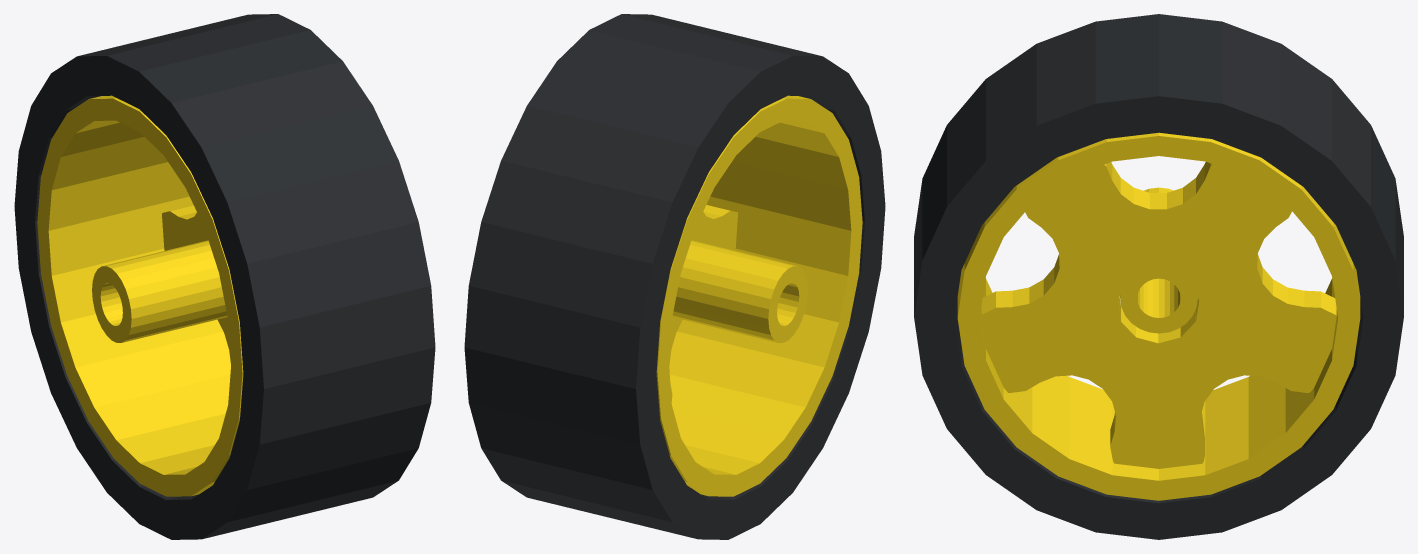
The model's file is tinker.obj.
3 renders of one model, left to right at view 1: azimuth 30°, elevation 25°; view 2: azimuth 150°, elevation 25°; view 3: azimuth 270°, elevation 25°, orthographic.
Visible parts, largest first — view 1: group_0_2829873, group_0_16768282; view 2: group_0_2829873, group_0_16768282; view 3: group_0_16768282, group_0_2829873.
Part boxes in pixels (x1,y1,x2,y2): group_0_2829873: [14, 14, 435, 539]; group_0_16768282: [37, 95, 243, 496]; group_0_2829873: [464, 14, 885, 539]; group_0_16768282: [656, 95, 862, 496]; group_0_16768282: [957, 132, 1360, 500]; group_0_2829873: [914, 14, 1403, 539].
Size of the model in its own units: 29.1 by 63 by 63.
